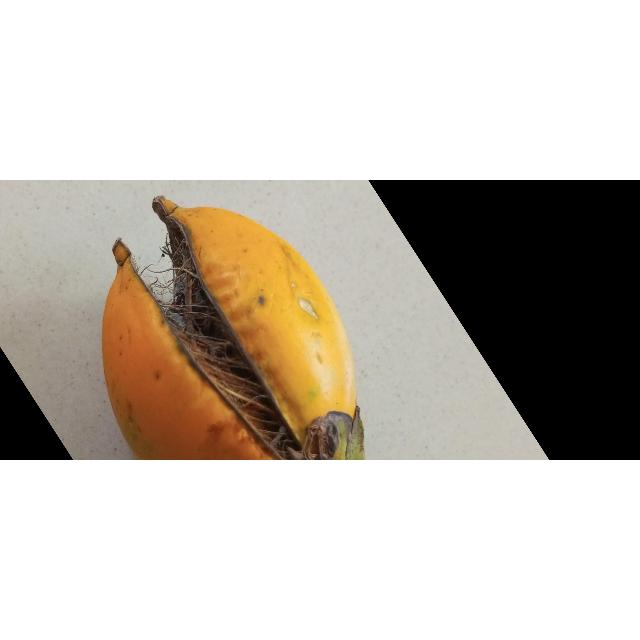damaged: (109, 196, 365, 461)
